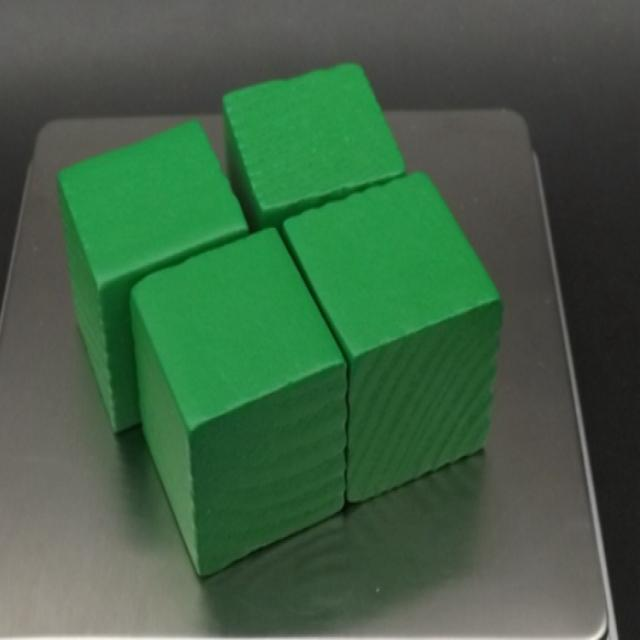green cube: (130, 225, 348, 578), (282, 168, 502, 504), (57, 116, 250, 436), (221, 61, 407, 233)
